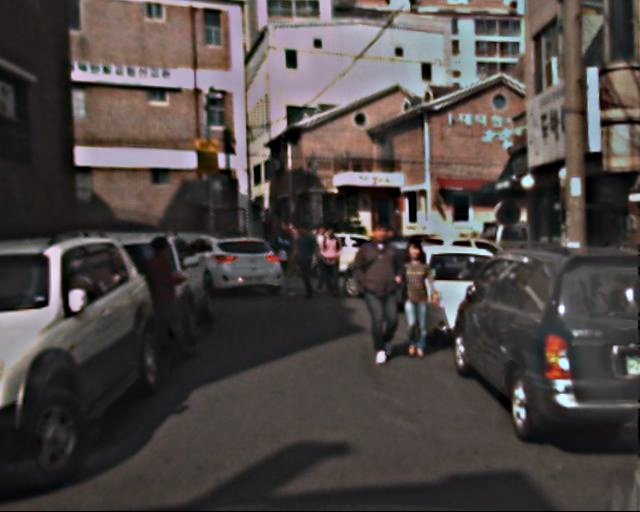person: (351, 226, 409, 367), (140, 235, 192, 361), (391, 241, 439, 359), (292, 228, 322, 300), (319, 228, 346, 295), (273, 219, 294, 269), (311, 226, 331, 275)
